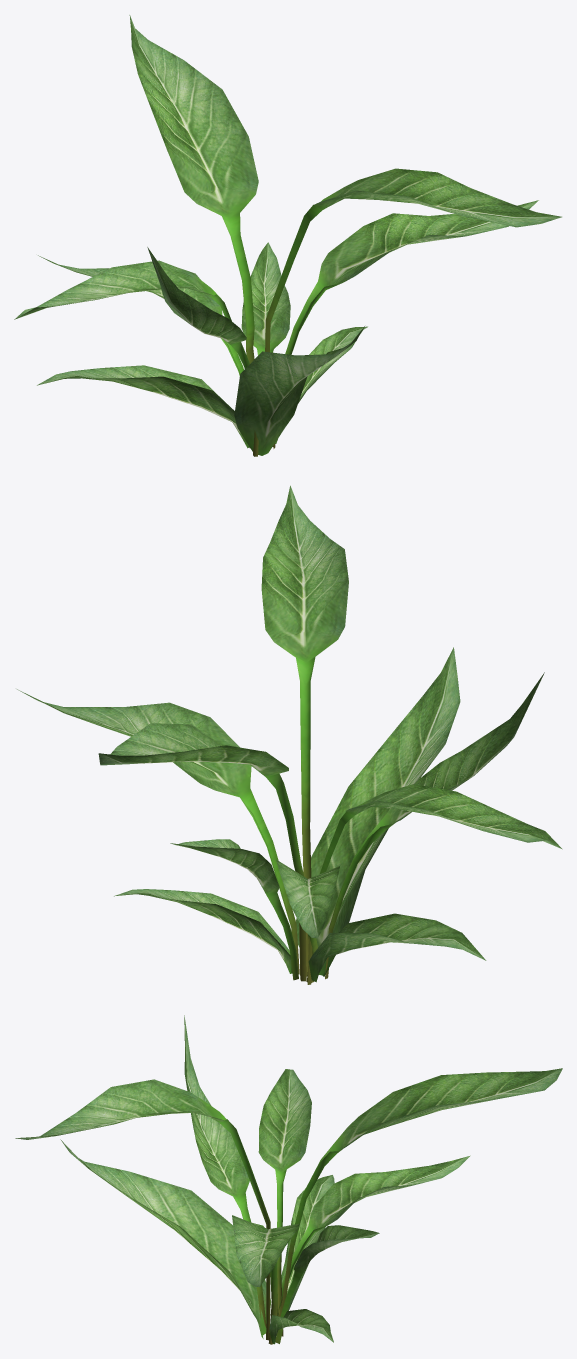
File: D_Plant_015.fbx
The picture shows the model from 3 angles, top to bottom: view 1: azimuth 30°, elevation 25°; view 2: azimuth 150°, elevation 25°; view 3: azimuth 270°, elevation 25°; orthographic projection. The views are drawn at different scales.
Visible parts, largest first — view 1: D_Plant_015; view 2: D_Plant_015; view 3: D_Plant_015.
Part boxes in pixels (left/top/right/bottom): D_Plant_015: left=14, top=15, right=561, bottom=456; D_Plant_015: left=17, top=485, right=562, bottom=984; D_Plant_015: left=15, top=1015, right=562, bottom=1344.
Size of the model in its own units: 0.4972 by 0.2927 by 0.5125.
1 material, 1 textured.
